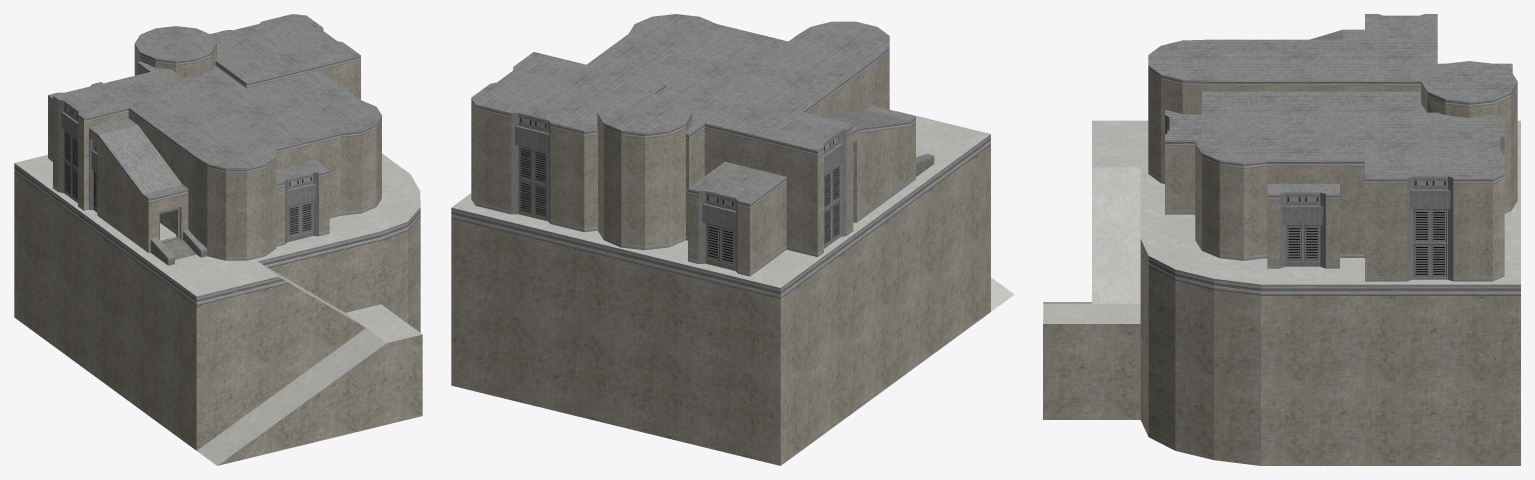
File: ply_all_house_lg_s02_fp1_r0_mesh_l1.fbx
3 renders of one model, left to right at view 1: azimuth 30°, elevation 25°; view 2: azimuth 150°, elevation 25°; view 3: azimuth 270°, elevation 25°, orthographic. The views are drawn at different scales.
Visible parts, largest first — view 1: mesh_node; view 2: mesh_node; view 3: mesh_node.
Part boxes in pixels (x1,y1,x2,y2): mesh_node: (14, 14, 422, 465); mesh_node: (451, 14, 1014, 465); mesh_node: (1043, 14, 1520, 465).
Size of the model in its own units: 31.97 by 27.36 by 39.4.
